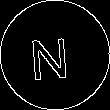N_N: (33, 28, 77, 82)
